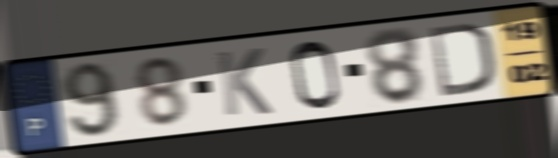0: (288, 38, 342, 112)
8: (363, 26, 428, 107), (130, 54, 191, 130)
9: (58, 60, 121, 140)
D: (426, 19, 497, 99)
K: (213, 45, 275, 119)
